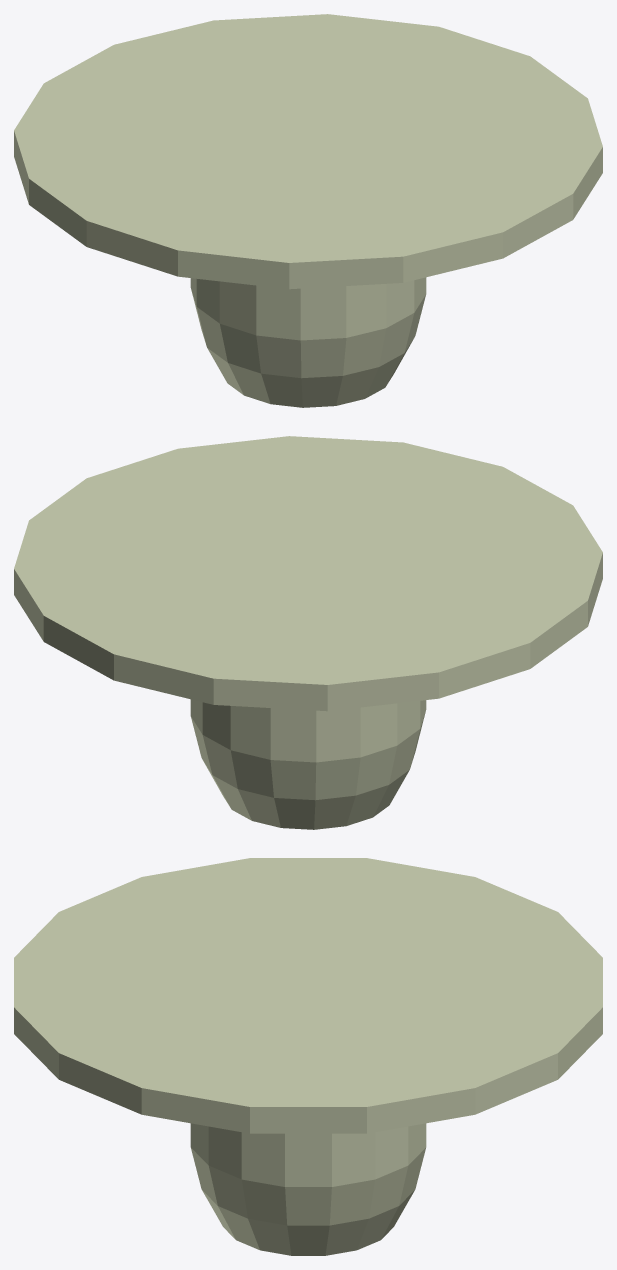
The model's file is RLV_Mount_2_Collider.obj.
3 views of the same model, one above another, from view 1: azimuth 30°, elevation 25°; view 2: azimuth 150°, elevation 25°; view 3: azimuth 270°, elevation 25° (orthographic).
Visible parts, largest first — view 1: RLV_Mount_2_Collider_1, RLV_Mount_2_Collider3; view 2: RLV_Mount_2_Collider_1, RLV_Mount_2_Collider3; view 3: RLV_Mount_2_Collider_1, RLV_Mount_2_Collider3.
Part boxes in pixels (<box>): RLV_Mount_2_Collider_1: <box>14,14,602,289</box>; RLV_Mount_2_Collider3: <box>190,277,426,407</box>; RLV_Mount_2_Collider_1: <box>14,436,602,711</box>; RLV_Mount_2_Collider3: <box>190,699,426,829</box>; RLV_Mount_2_Collider_1: <box>14,858,602,1133</box>; RLV_Mount_2_Collider3: <box>190,1123,426,1255</box>.
Size of the model in its own units: 5 by 2.22 by 5.
